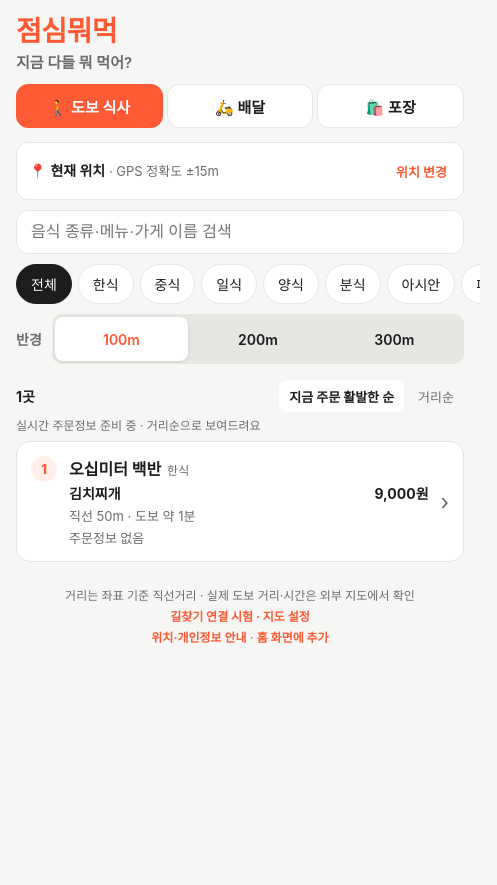
실제 DB 모드 — 소비자 화면 › 주문정보가 없으면 0건으로 쓰지 않고 “주문정보 없음” + 거리순
Click the radio button labelled "300m" at (394, 339), box [328,317,461,361]
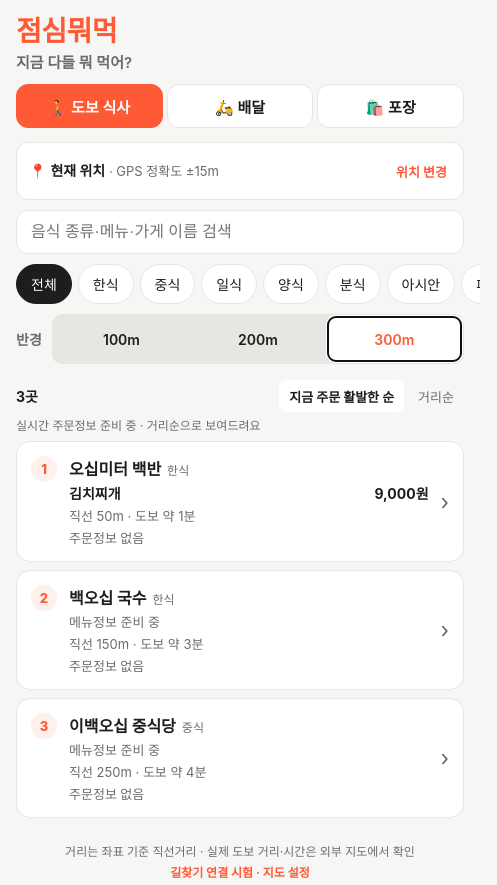
Expected: the text "실시간 주문정보 준비 중 · 거리순으로 보여드려요" is shown, [16,418,260,433]
Result: the text "주문정보 없음" is shown 3 times at [69,530,144,546]; [69,658,144,674]; [69,786,144,802]
Result: the button "2 백오십 국수 한식 메뉴정보 준비 중 직선 150m · 도보 약 3분 주문정보 없음 ›" is shown at [17,571,463,689]
